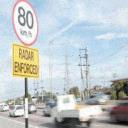speed_limit_80: (12, 1, 38, 46)
